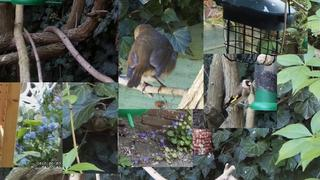goldfinch: (222, 78, 253, 110)
robin: (125, 24, 180, 95)
